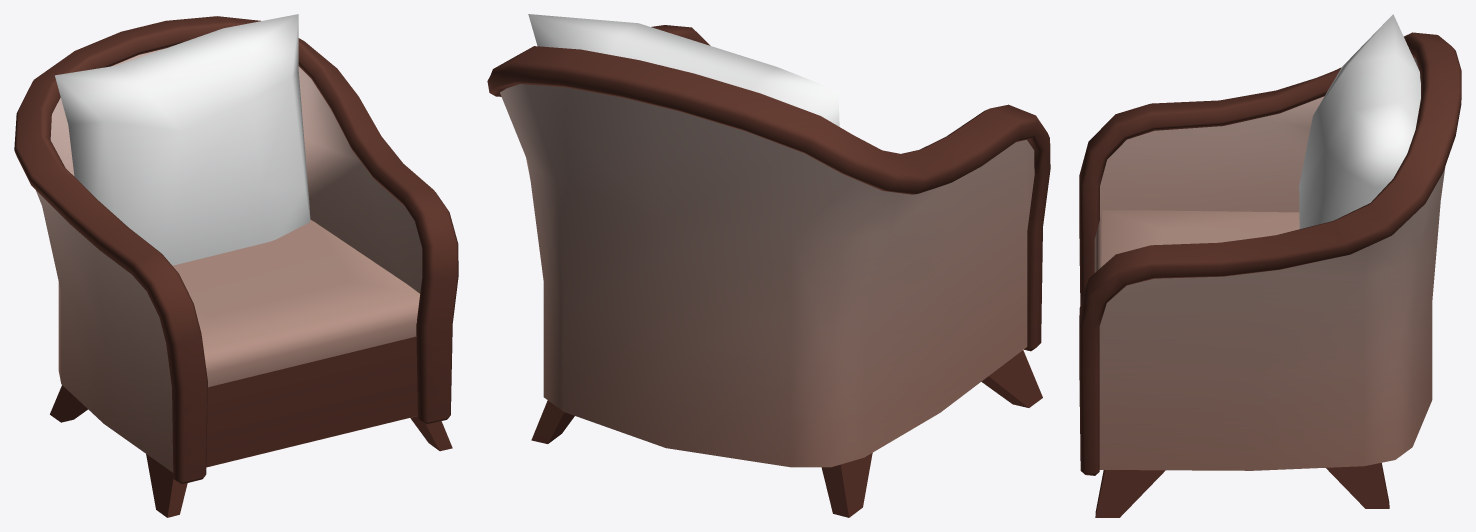
The model's file is Chair_01.glb.
3 renders of one model, left to right at view 1: azimuth 30°, elevation 25°; view 2: azimuth 150°, elevation 25°; view 3: azimuth 270°, elevation 25°, orthographic. The views are drawn at different scales.
Visible parts, largest first — view 1: Chair_01; view 2: Chair_01; view 3: Chair_01.
Boxes of the visible parts, <box> form: Chair_01: <box>14,14,458,517</box>; Chair_01: <box>487,14,1050,517</box>; Chair_01: <box>1079,14,1461,517</box>.
Size of the model in its own units: 0.9333 by 0.9189 by 0.8636.
1 material, 1 textured.
